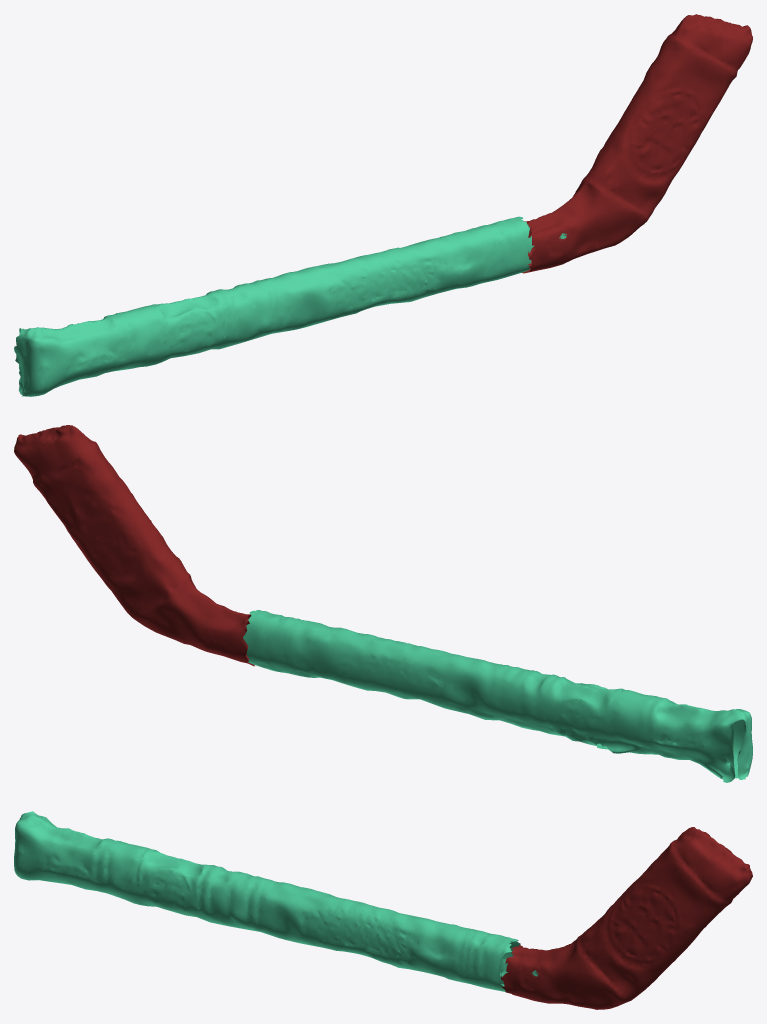
Rendered from object_deformed_4.obj.
The picture shows the model from 3 angles, top to bottom: view 1: azimuth 30°, elevation 25°; view 2: azimuth 150°, elevation 25°; view 3: azimuth 330°, elevation 25°; orthographic projection. The views are drawn at different scales.
Bounding box in the file's own units: 0.6036 × 0.1618 × 0.0486.
